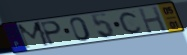0: (69, 17, 92, 43)
5: (89, 12, 117, 40)
C: (118, 10, 144, 35)
H: (137, 6, 168, 35)
M: (16, 21, 52, 51)
P: (39, 20, 64, 47)
